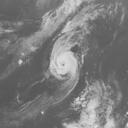cyclone: (49, 33, 80, 82)
